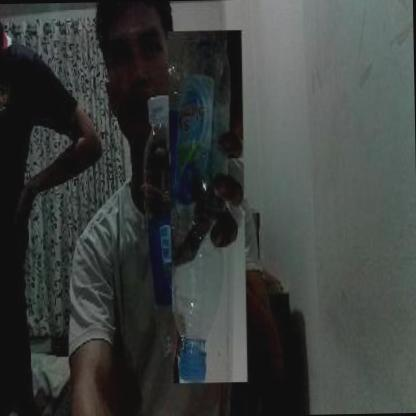plastic_bottles: (168, 30, 248, 383), (138, 94, 176, 356)
